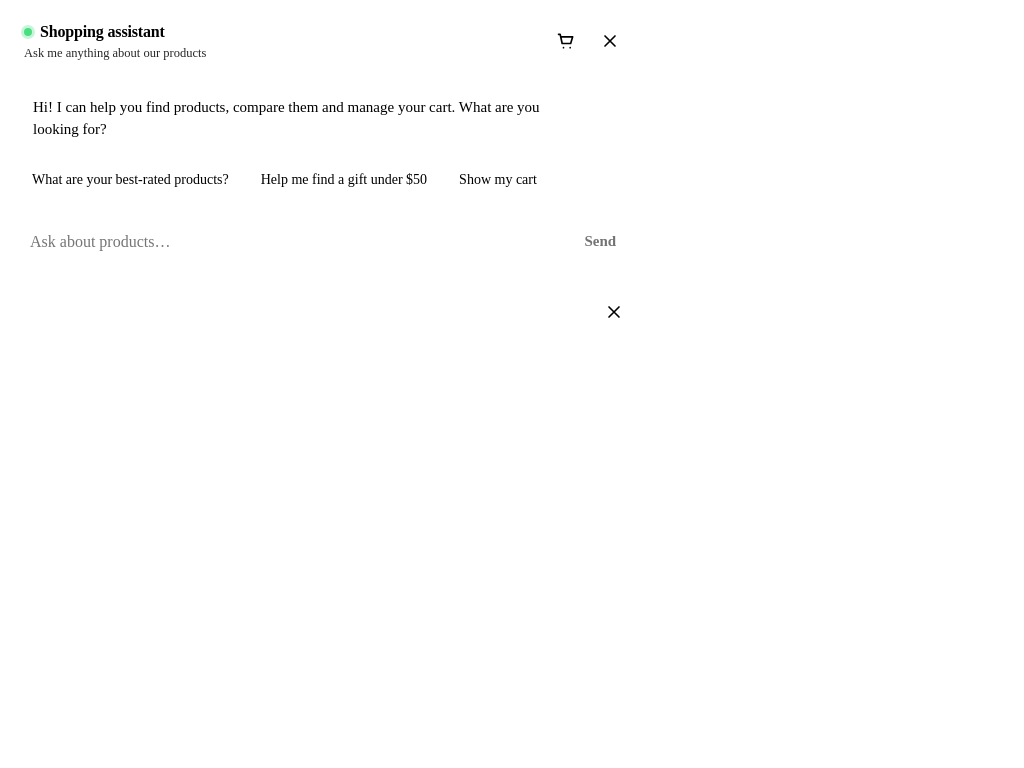
Test: cart › shows the item count on the cart button and the cart in a drawer
The width and height of the screenshot is (1024, 768).
Click the button named "Cart, 0 items" at (566, 41), box top-left (546, 21), bottom-right (586, 61)
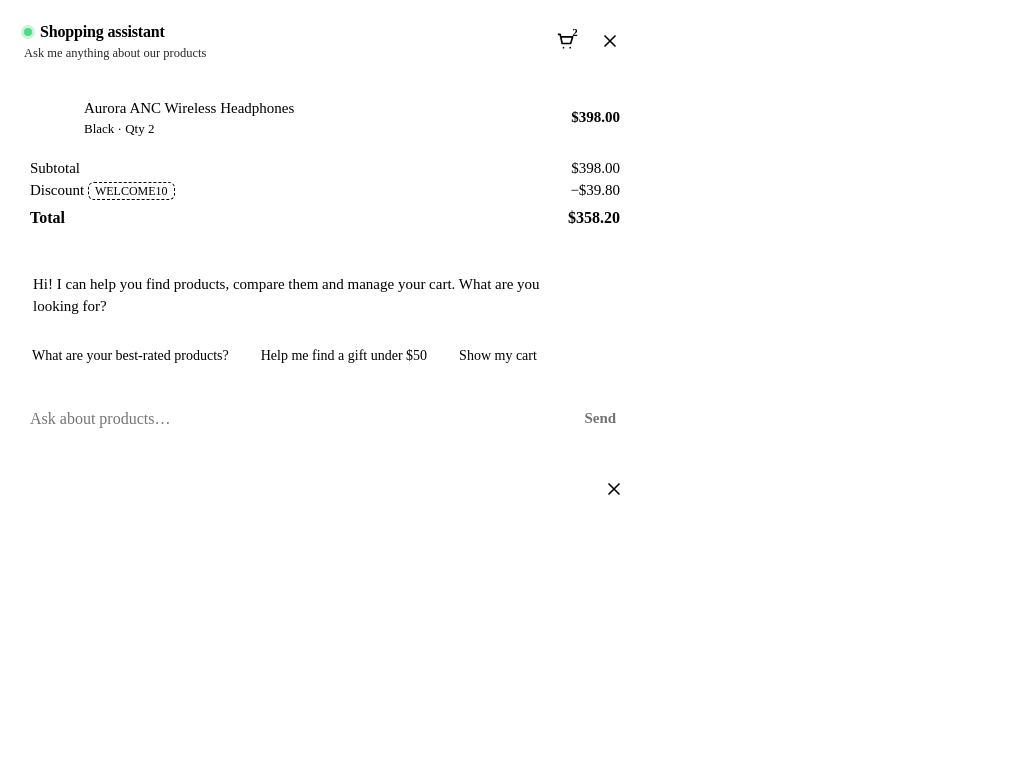
Check: the text "$358.20" is shown, box top-left (568, 206), bottom-right (620, 229)
